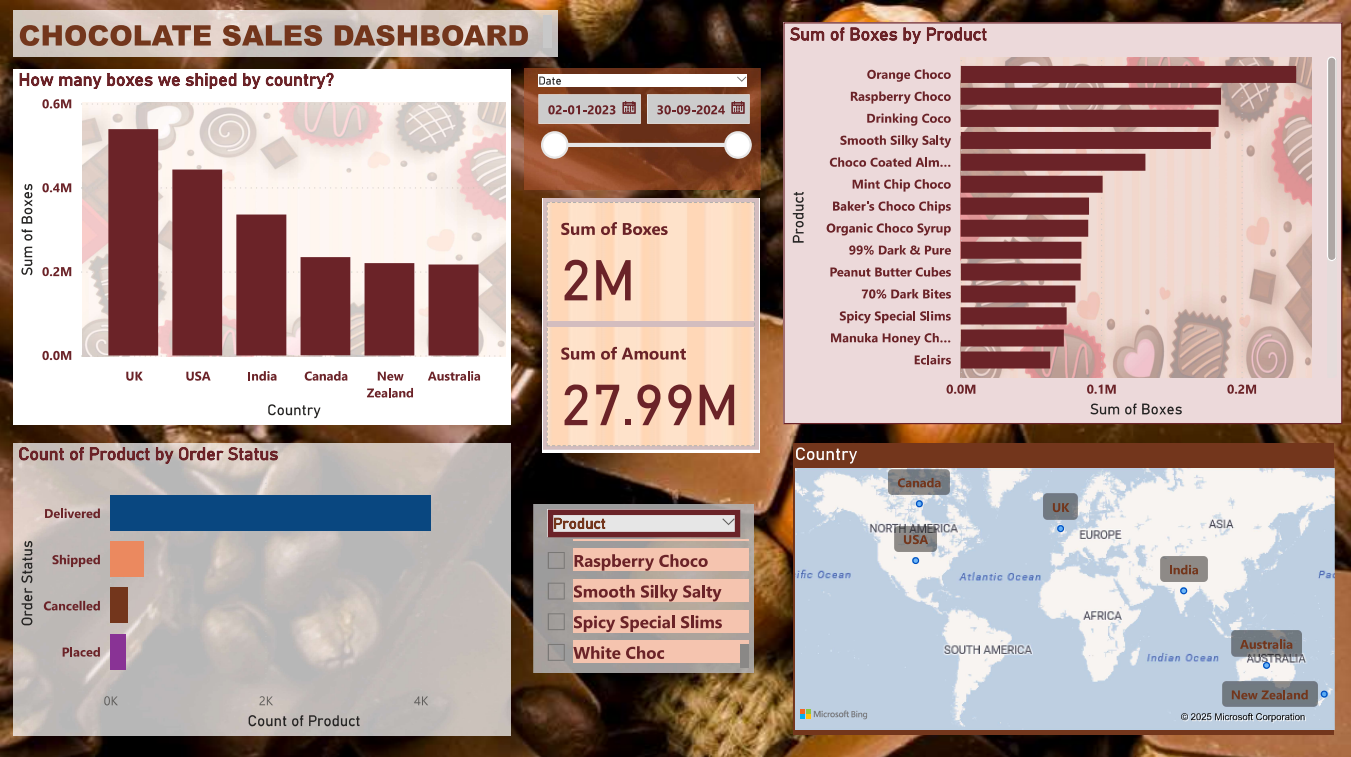

This screenshot's page, from the dashboard's own definition file:
{"tool":"powerbi","page":{"name":"Page 1","canvas":[1280,720],"ordinal":0},"visuals":[{"type":"columnChart","title":"How many boxes we shiped by country?","fields":{"Category":["data.Country"],"Y":["Sum(data.Boxes)"]},"box":[12.8,65.1,470.9,336],"z":0},{"type":"clusteredBarChart","fields":{"Category":["data.Product"],"Y":["Sum(data.Boxes)"]},"box":[741.9,20.9,529.1,380.2],"z":1000},{"type":"cardVisual","fields":{"Data":["Sum(data.Boxes)","Sum(data.Amount)"]},"box":[514,187.2,205.8,240.7],"z":2000},{"type":"barChart","fields":{"Category":["data.Order Status"],"Y":["CountNonNull(data.Product)"]},"box":[12.9,418.8,470.6,276.5],"z":3000},{"type":"slicer","fields":{"Values":["data.Product"]},"box":[505.8,476.7,208.1,159.3],"z":4000},{"type":"slicer","fields":{"Values":["data.Date"]},"box":[496.5,65.1,223.3,114],"z":5000},{"type":"textbox","box":[12.8,9.3,515.1,44.2],"z":6000},{"type":"map","fields":{"Category":["data.Country"]},"box":[751.2,418.6,511.6,276.7],"z":7000}]}

Visuals, with their boxes in screenshot pixels (x1, y1, x2, y2), scaled from the page's 1280x720 canvas onto the 1351x757 screenshot:
"How many boxes we shiped by country?" columnChart: 14:68:511:422
clusteredBarChart - data.Product x Sum(data.Boxes): 783:22:1342:422
cardVisual - Sum(data.Boxes) x Sum(data.Amount): 543:197:760:450
barChart - data.Order Status x CountNonNull(data.Product): 14:440:510:731
slicer - data.Product: 534:501:753:669
slicer - data.Date: 524:68:760:188
textbox: 14:10:557:56
map - data.Country: 793:440:1333:731
